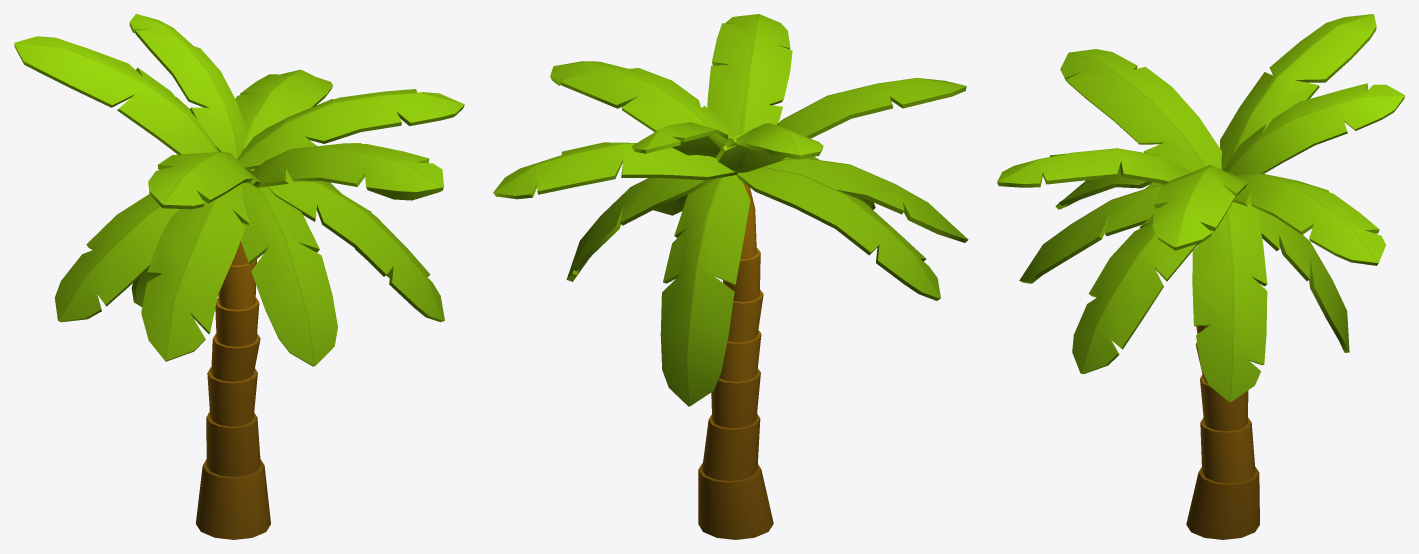
File: Farm_Crop_Coconut_Tree_01.fbx
The picture shows the model from 3 angles, left to right: view 1: azimuth 30°, elevation 25°; view 2: azimuth 150°, elevation 25°; view 3: azimuth 270°, elevation 25°; orthographic projection. The views are drawn at different scales.
Parts seen in each view (by area): view 1: Farm_Crop_Coconut_Tree_01; view 2: Farm_Crop_Coconut_Tree_01; view 3: Farm_Crop_Coconut_Tree_01.
Boxes of the visible parts, box(x1,y1,x2,y2) form: Farm_Crop_Coconut_Tree_01: box(14, 14, 464, 539); Farm_Crop_Coconut_Tree_01: box(493, 14, 968, 539); Farm_Crop_Coconut_Tree_01: box(997, 14, 1404, 539).
Size of the model in its own units: 389 by 433 by 358.
